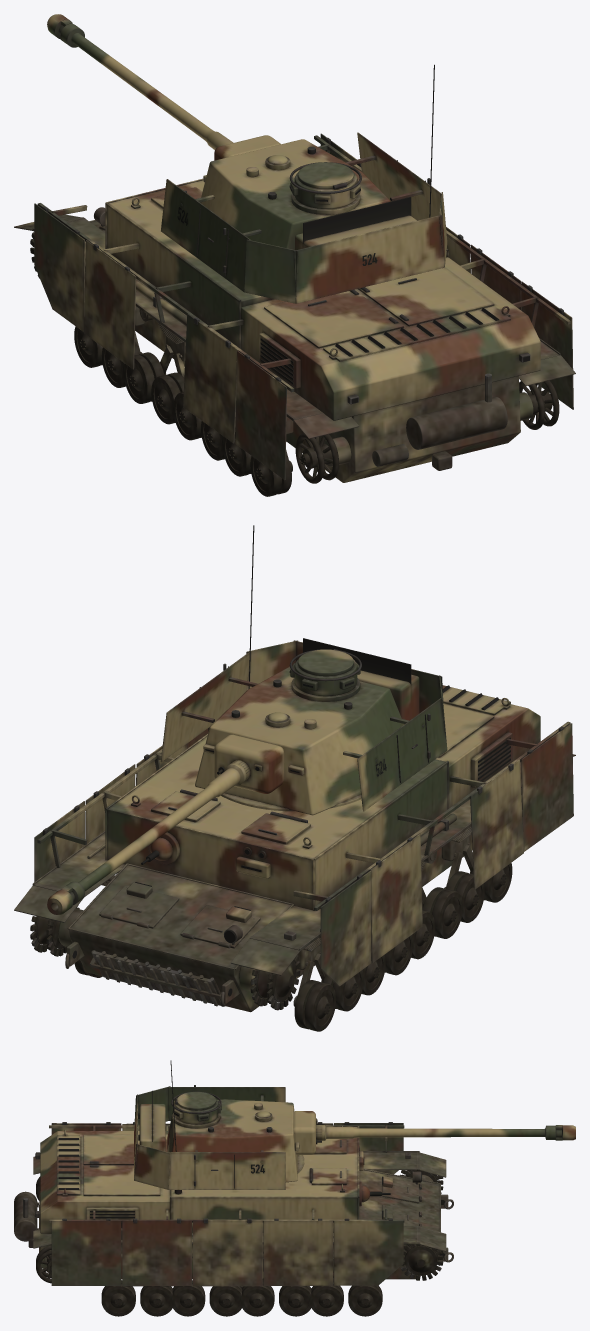
Rendered from panzer.glb.
The picture shows the model from 3 angles, top to bottom: view 1: azimuth 30°, elevation 25°; view 2: azimuth 150°, elevation 25°; view 3: azimuth 270°, elevation 25°; orthographic projection. The views are drawn at different scales.
Visible parts, largest first — view 1: hull, turret_shell, gun, wheel_L_9, wheel_L_2, wheel_R_9, running_gear, wheel_L_3, wheel_L_7, wheel_L_4, wheel_L_6, wheel_L_0 (+2 smaller); view 2: hull, turret_shell, gun, running_gear, wheel_L_0, wheel_L_8, wheel_L_5, wheel_L_6, wheel_R_8, wheel_L_1, wheel_L_4, wheel_L_3 (+2 smaller); view 3: hull, turret_shell, gun, wheel_R_8, wheel_R_0, wheel_R_7, wheel_R_1, wheel_R_5, wheel_R_3, wheel_R_2, wheel_R_4, wheel_R_6 (+1 smaller).
Boxes of the visible parts, x1=… form: hull: x1=14, y1=64, x2=575, y2=482; turret_shell: x1=161, y1=132, x2=447, y2=303; gun: x1=47, y1=14, x2=280, y2=160; wheel_L_9: x1=295, y1=433, x2=338, y2=483; wheel_L_2: x1=123, y1=352, x2=164, y2=403; wheel_R_9: x1=519, y1=380, x2=559, y2=429; running_gear: x1=134, y1=306, x2=293, y2=471; wheel_L_3: x1=151, y1=372, x2=184, y2=424; wheel_L_7: x1=250, y1=455, x2=291, y2=496; wheel_L_4: x1=173, y1=392, x2=201, y2=440; wheel_L_6: x1=222, y1=427, x2=251, y2=476; wheel_L_0: x1=74, y1=326, x2=102, y2=367; hull: x1=14, y1=525, x2=575, y2=1012; turret_shell: x1=160, y1=638, x2=447, y2=815; gun: x1=47, y1=734, x2=284, y2=914; running_gear: x1=101, y1=826, x2=473, y2=1006; wheel_L_0: x1=294, y1=980, x2=336, y2=1031; wheel_L_8: x1=250, y1=955, x2=300, y2=1010; wheel_L_5: x1=422, y1=887, x2=462, y2=938; wheel_L_6: x1=445, y1=871, x2=484, y2=922; wheel_R_8: x1=30, y1=905, x2=79, y2=956; wheel_L_1: x1=323, y1=970, x2=363, y2=1011; wheel_L_4: x1=411, y1=910, x2=435, y2=959; wheel_L_3: x1=384, y1=935, x2=412, y2=975; hull: x1=14, y1=1060, x2=453, y2=1286; turret_shell: x1=134, y1=1085, x2=304, y2=1189; gun: x1=293, y1=1111, x2=575, y2=1154; wheel_R_8: x1=401, y1=1244, x2=443, y2=1280; wheel_R_0: x1=348, y1=1285, x2=382, y2=1316; wheel_R_7: x1=101, y1=1280, x2=135, y2=1316; wheel_R_1: x1=310, y1=1281, x2=343, y2=1316; wheel_R_5: x1=171, y1=1280, x2=205, y2=1316; wheel_R_3: x1=241, y1=1281, x2=274, y2=1316; wheel_R_2: x1=279, y1=1286, x2=312, y2=1316; wheel_R_4: x1=209, y1=1286, x2=242, y2=1316; wheel_R_6: x1=140, y1=1286, x2=173, y2=1316.
Size of what is drawn, in the model's own units: 3.23 by 3.85 by 7.7.
Materials: 1 (1 with a texture image).
